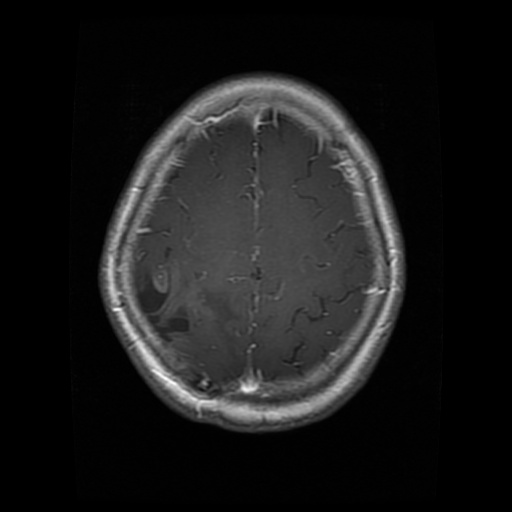glioma: (137, 264, 246, 382)
